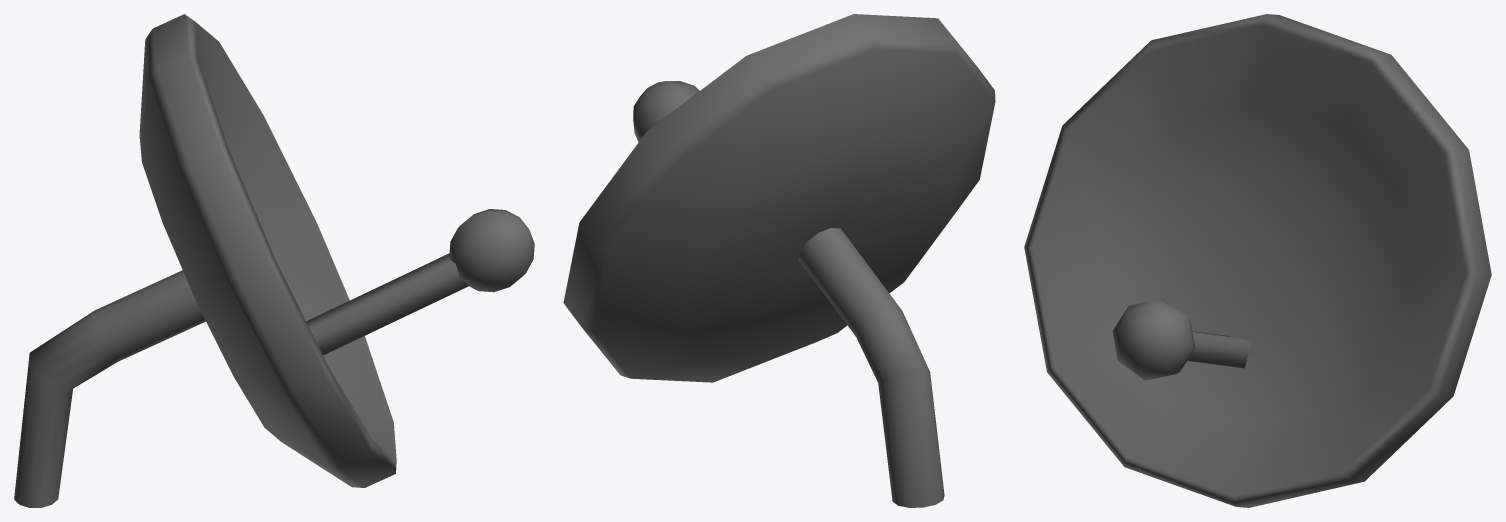
File: Sailite_low.fbx
3 views of the same model, side by side, from view 1: azimuth 30°, elevation 25°; view 2: azimuth 150°, elevation 25°; view 3: azimuth 270°, elevation 25° (orthographic). The views are drawn at different scales.
Parts seen in each view (by area): view 1: Satilite_low; view 2: Satilite_low; view 3: Satilite_low.
Boxes of the visible parts, left/top/right/bottom form: Satilite_low: left=14, top=14, right=534, bottom=507; Satilite_low: left=563, top=14, right=995, bottom=507; Satilite_low: left=1024, top=14, right=1491, bottom=507.
Size of the model in its own units: 46.11 by 47.47 by 46.24.
